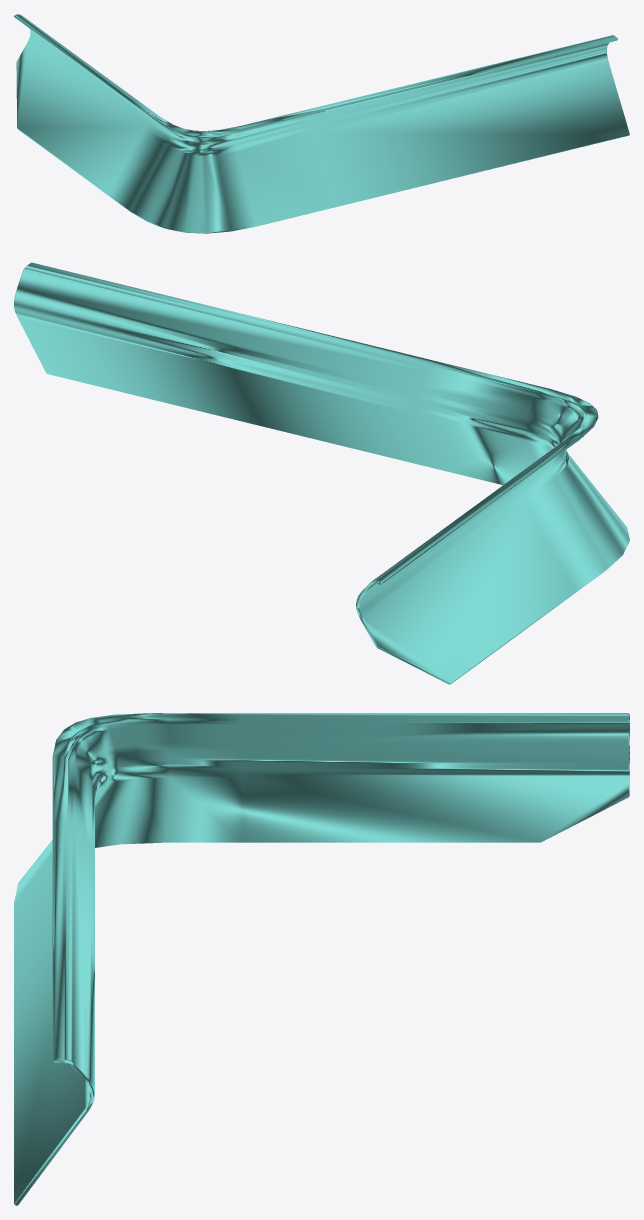
The model's file is greencircle_int_balcony_railings_glass_stairway_mirror.glb.
3 renders of one model, top to bottom at view 1: azimuth 30°, elevation 25°; view 2: azimuth 150°, elevation 25°; view 3: azimuth 270°, elevation 25°, orthographic. The views are drawn at different scales.
Bounding box in the file's own units: 5.59 × 1.05 × 3.99.
